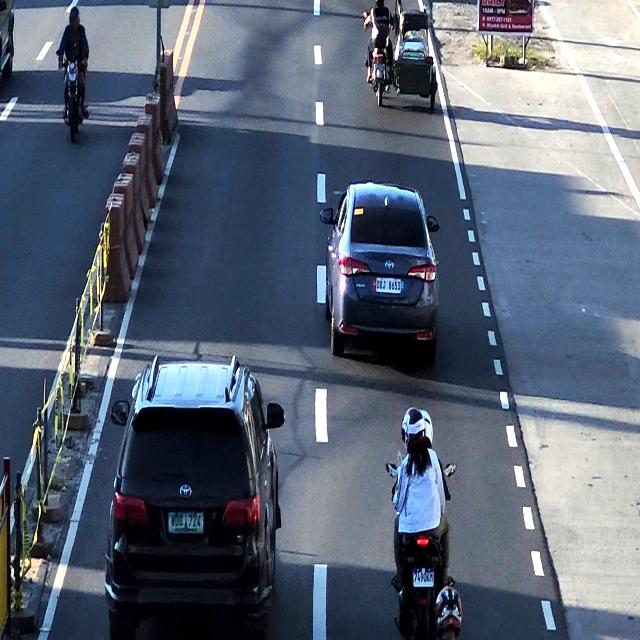Bus: (103, 368, 276, 623), (329, 187, 433, 353)
License-Plate: (165, 510, 202, 536), (374, 277, 404, 299), (409, 566, 434, 588)
Motorcycle: (390, 409, 468, 640)
Tricycle: (363, 0, 435, 109)
